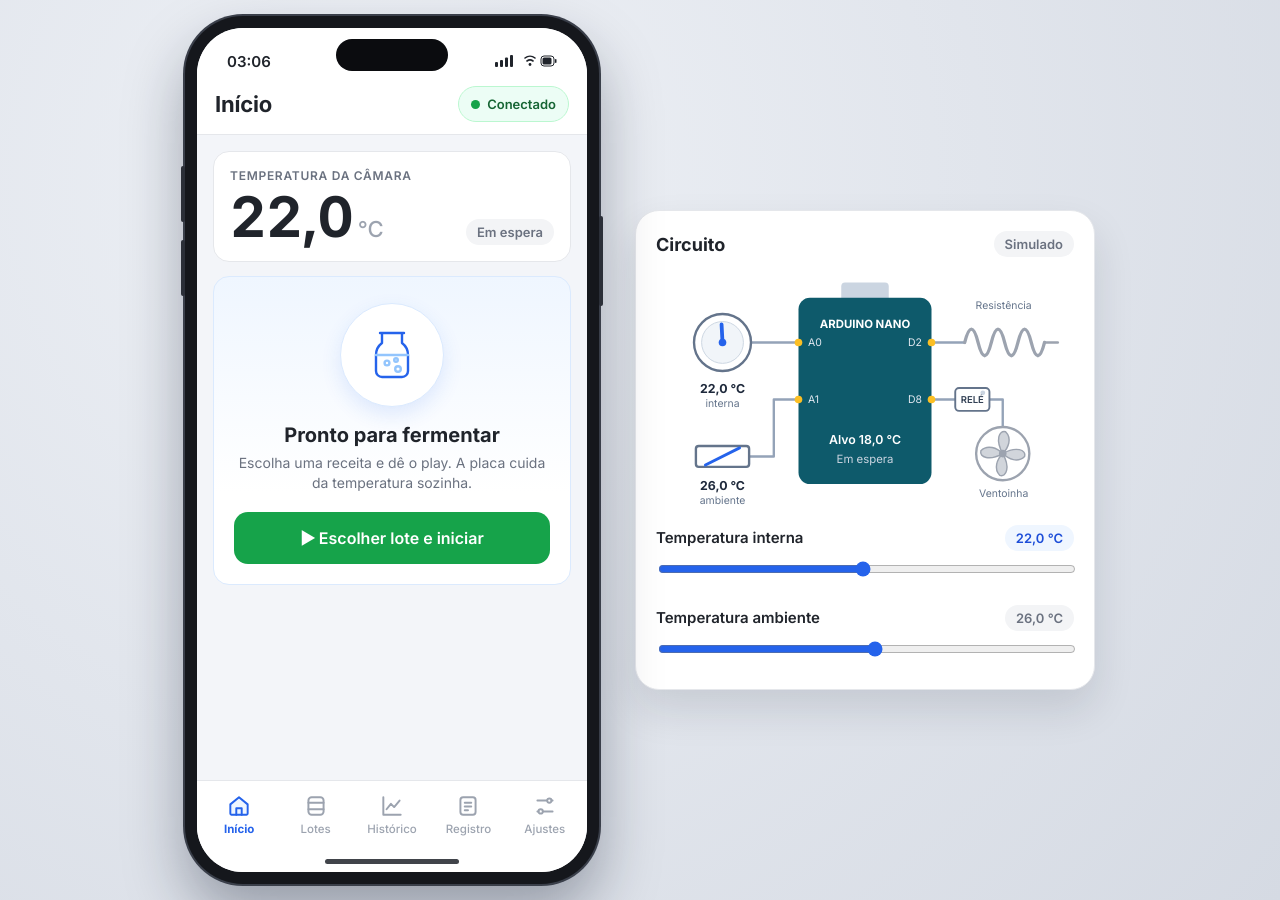
Scenario: App › etapa inválida na edição mostra o erro e não salva; cancelar descarta
Click the button "Lotes" at (316, 814), box left=277, top=787, right=354, bottom=842
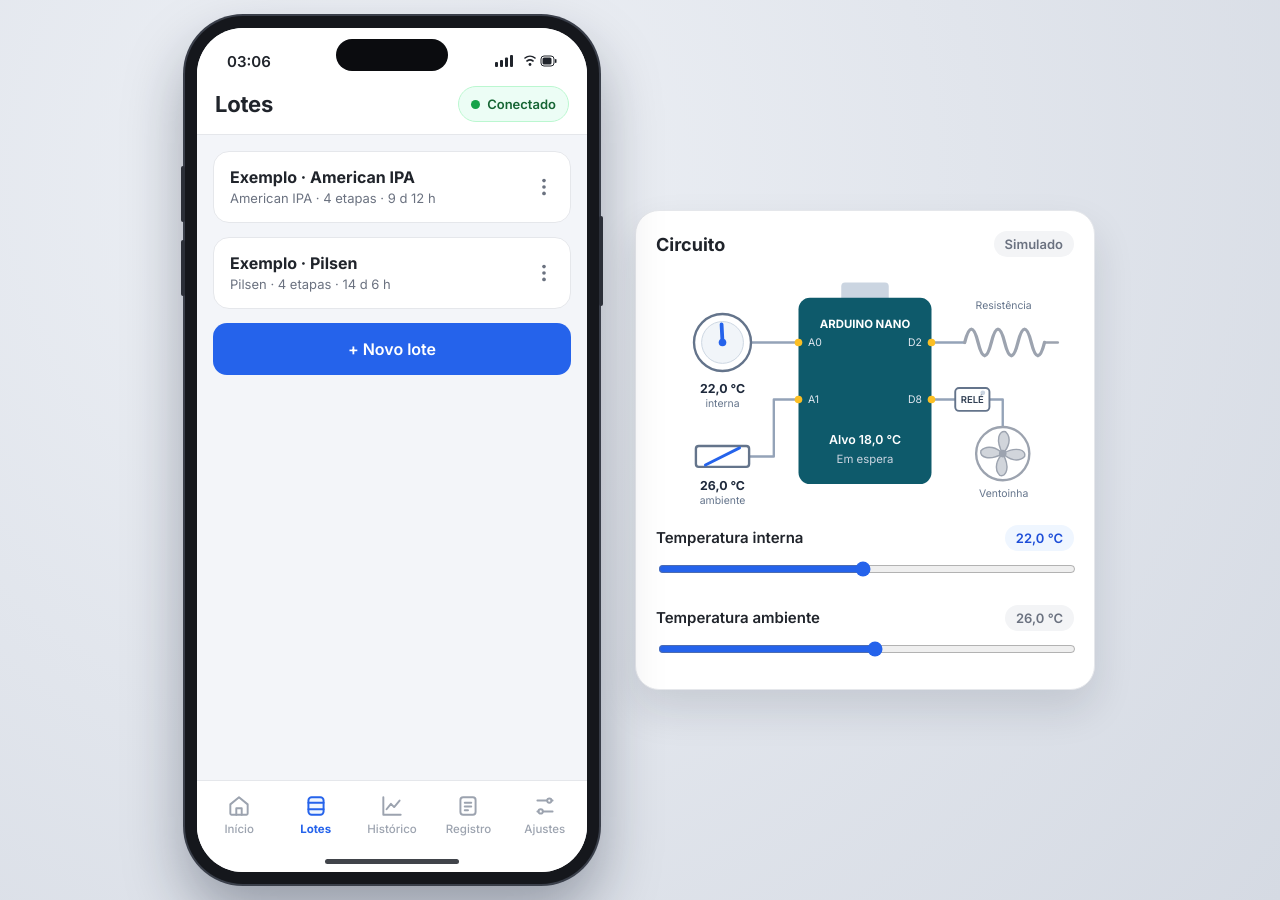
Click the text "Exemplo · American IPA" at (323, 177), box left=230, top=167, right=415, bottom=187
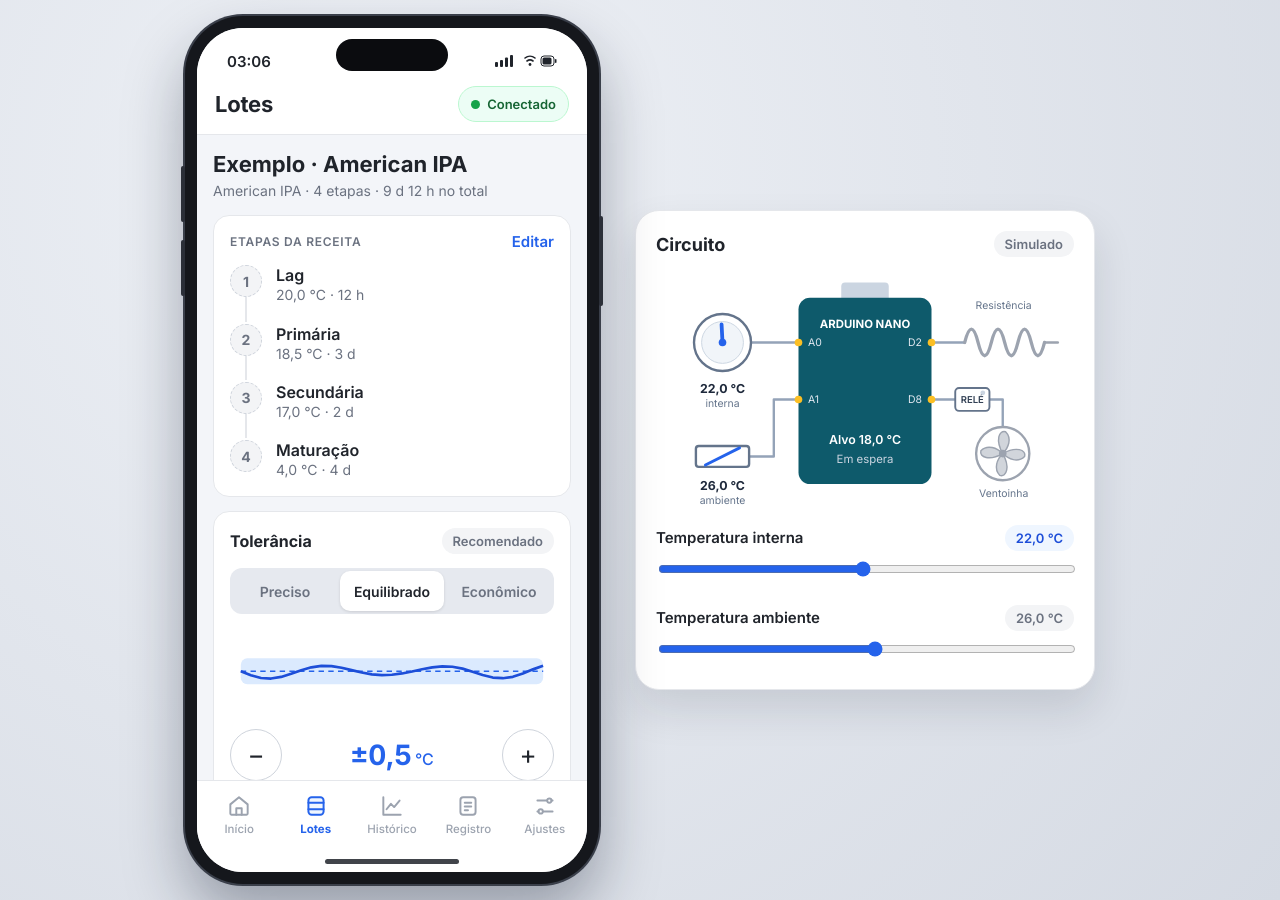
Click the button "Editar" at (533, 242), box left=512, top=232, right=554, bottom=251
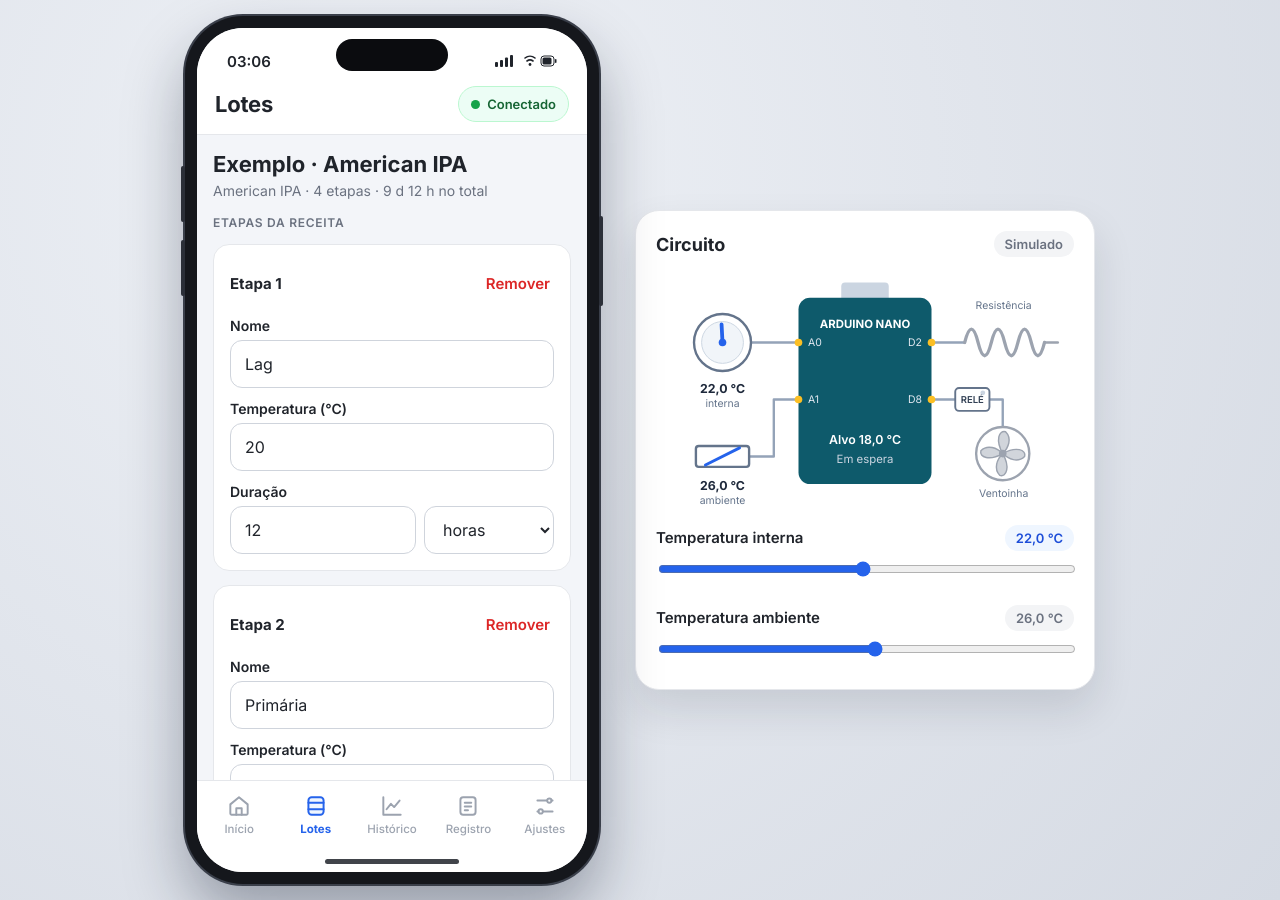
Clear the field named "Nome da etapa 1" at (392, 364), box left=230, top=340, right=554, bottom=388
(page scrolled)
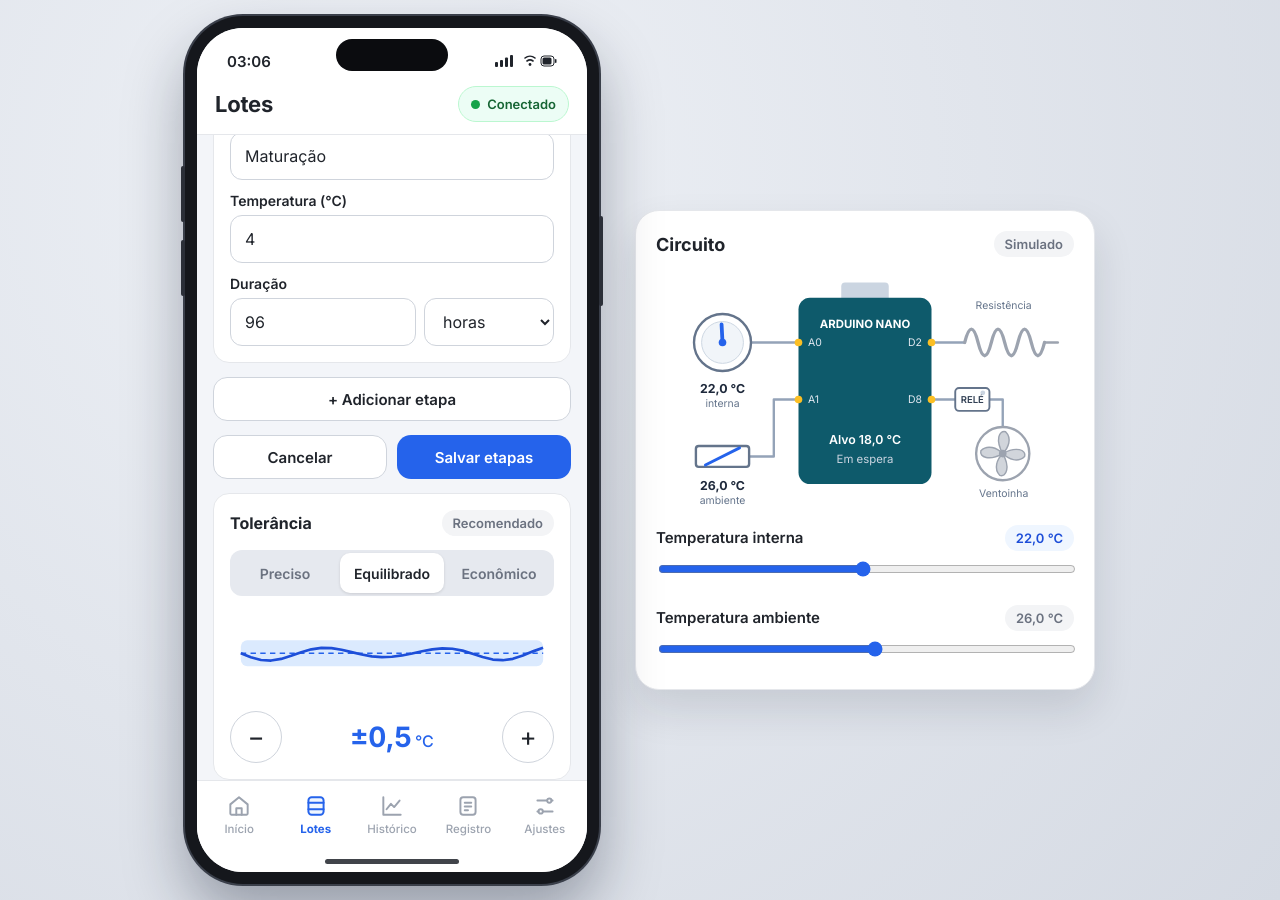
Click the button "Salvar etapas" at (484, 457), box left=397, top=435, right=571, bottom=479
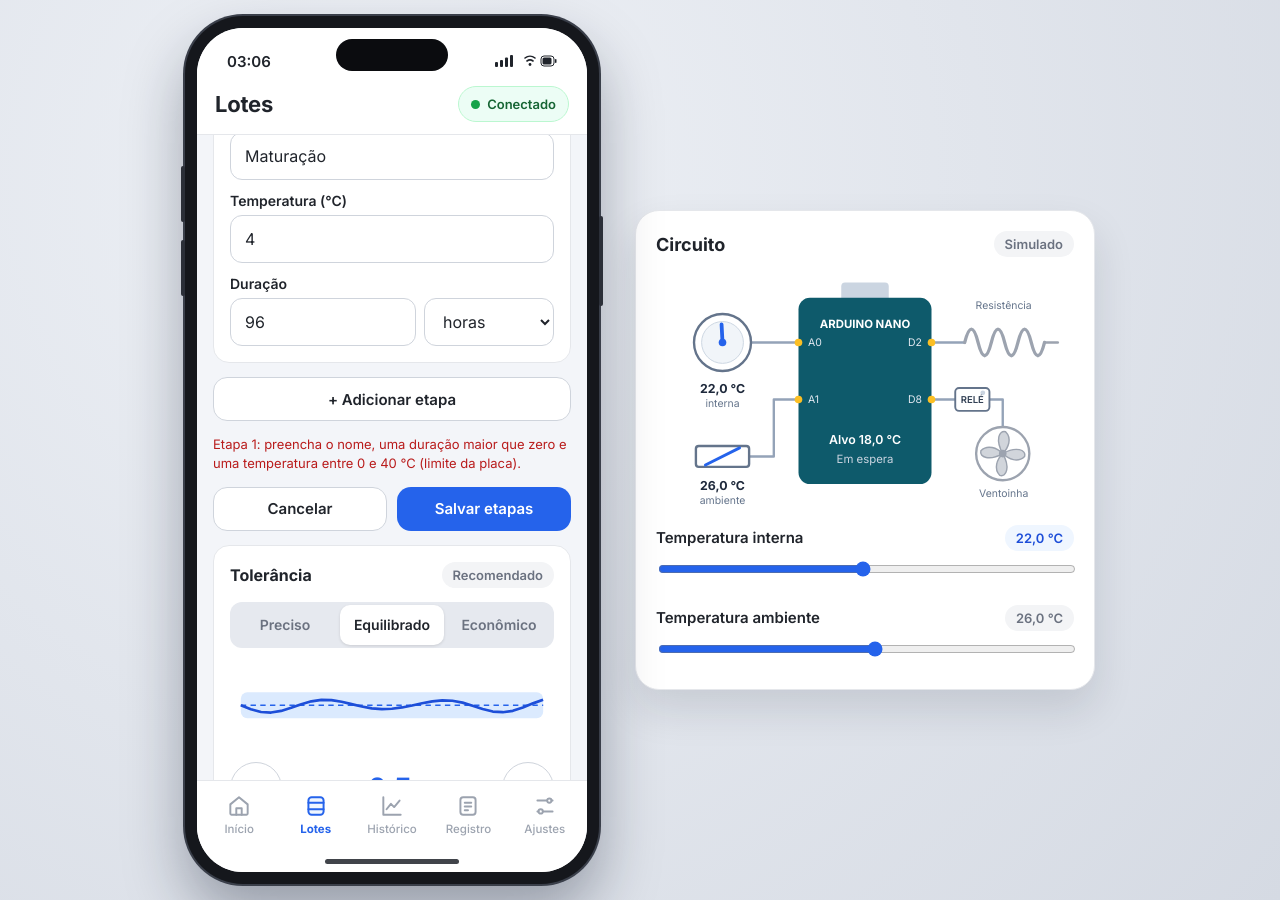
expect the message shows "Etapa 1": met, box left=213, top=436, right=566, bottom=471
Click the button "Cancelar" at (300, 509), box left=213, top=487, right=387, bottom=531
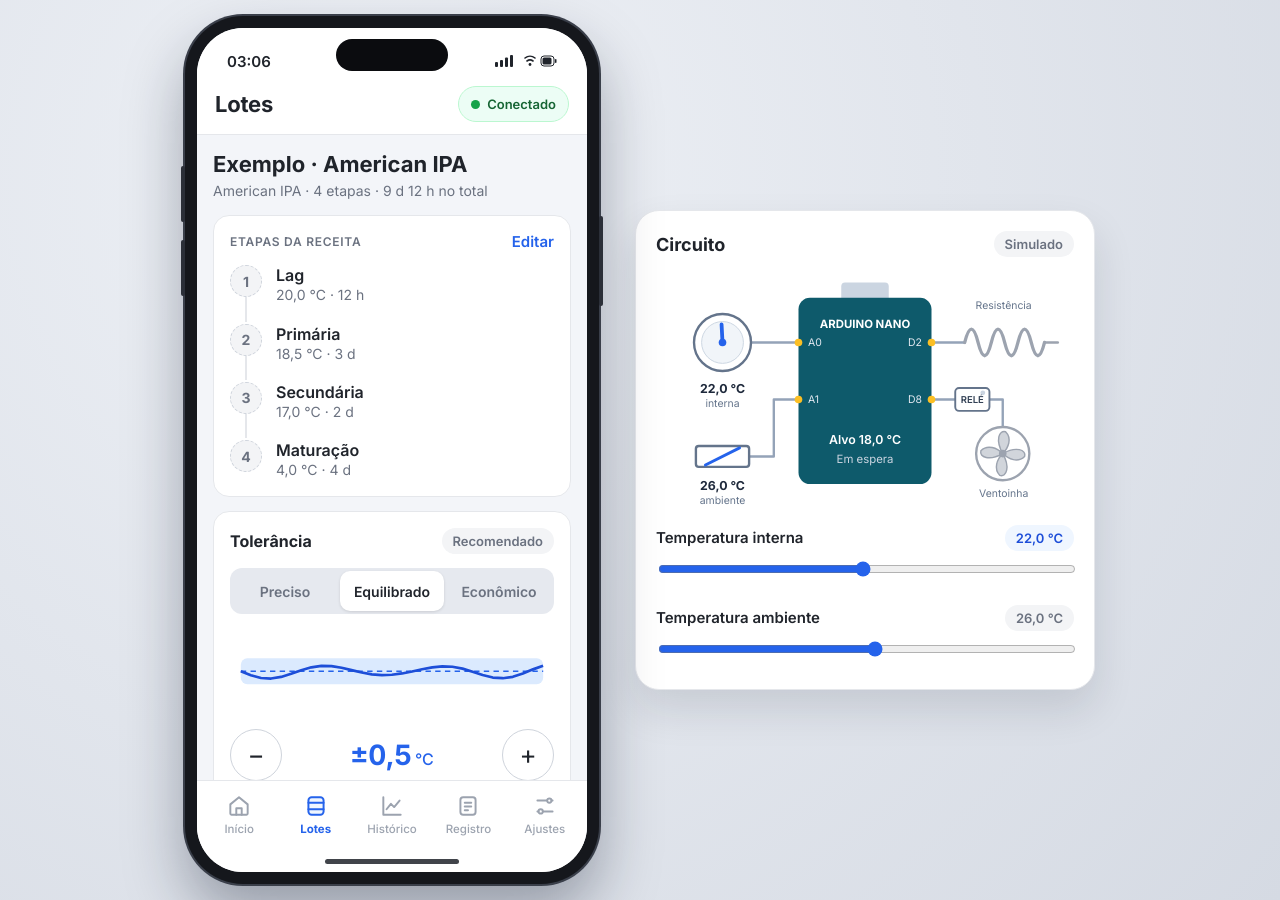
expect the text "Lag" is shown: met, box left=276, top=265, right=304, bottom=285
